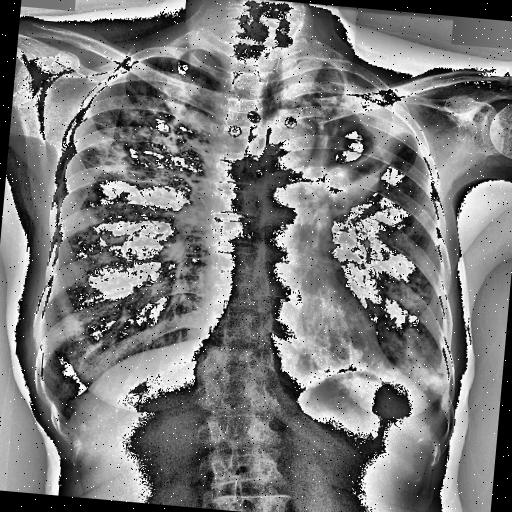10- Pleural effusion: (40, 391, 98, 442), (53, 408, 76, 438), (420, 398, 448, 420)
11- Pleural thickening: (279, 54, 421, 144), (334, 68, 418, 151), (40, 391, 98, 442), (53, 408, 76, 438), (420, 398, 448, 420)
13- Pulmonary fibrosis: (68, 51, 224, 280), (70, 40, 216, 252), (264, 58, 410, 213), (72, 55, 226, 199)
4- Consolidation: (390, 324, 451, 398), (316, 146, 390, 207)
6- Infiltration: (68, 51, 224, 280), (72, 55, 226, 199), (364, 316, 458, 402)
7- Lung Opacity: (270, 60, 420, 214), (264, 58, 410, 213), (344, 268, 459, 400), (286, 86, 382, 182), (390, 324, 451, 398)
9- Other lesion: (250, 74, 328, 165)
